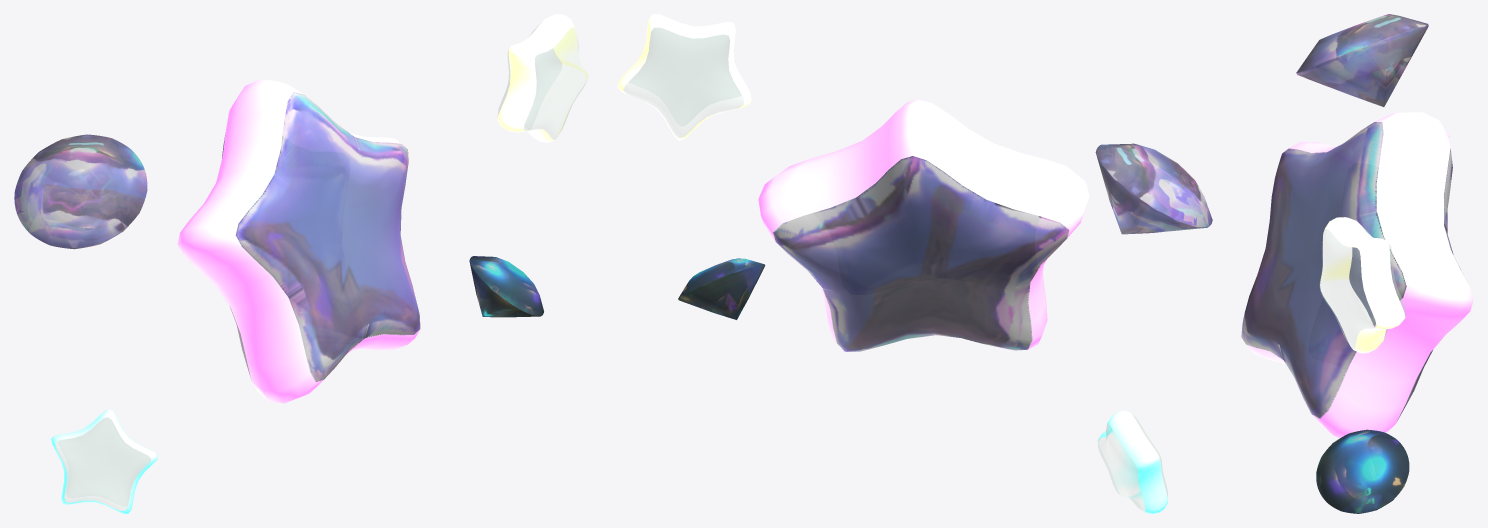
Rendered from starsemb.gltf.
3 views of the same model, side by side, from view 1: azimuth 30°, elevation 25°; view 2: azimuth 150°, elevation 25°; view 3: azimuth 270°, elevation 25° (orthographic). The views are drawn at different scales.
Visible parts, largest first — view 1: Star, dobj, Star.002, Star.001, dobj.001; view 2: Star, Star.002, dobj, Star.001, dobj.001; view 3: Star, Star.002, dobj, dobj.001.
Part boxes in pixels (bbox=[...]): Star: bbox=[177, 79, 420, 403]; dobj: bbox=[14, 134, 147, 249]; Star.002: bbox=[497, 14, 588, 142]; Star.001: bbox=[51, 409, 158, 513]; dobj.001: bbox=[469, 256, 543, 317]; Star: bbox=[758, 99, 1089, 351]; Star.002: bbox=[617, 14, 751, 140]; dobj: bbox=[1095, 143, 1212, 234]; Star.001: bbox=[1097, 410, 1167, 513]; dobj.001: bbox=[678, 258, 765, 319]; Star: bbox=[1241, 112, 1473, 438]; Star.002: bbox=[1320, 217, 1405, 353]; dobj: bbox=[1296, 14, 1428, 106]; dobj.001: bbox=[1316, 429, 1409, 513].
Bounding box in the file's own units: 2.52 × 1.59 × 0.8575.
Materials: 7 (3 with a texture image).
